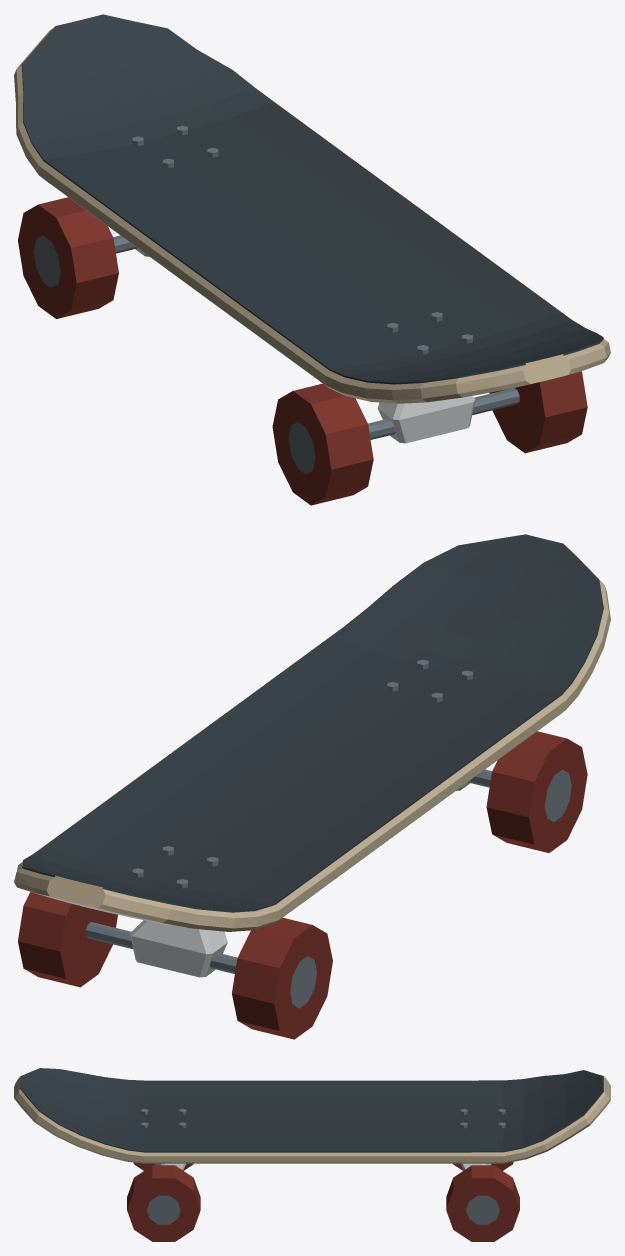
The model's file is skateboard-667a82.glb.
3 views of the same model, one above another, from view 1: azimuth 30°, elevation 25°; view 2: azimuth 150°, elevation 25°; view 3: azimuth 270°, elevation 25° (orthographic). The views are drawn at different scales.
Visible parts, largest first — view 1: deck, wheel-fr-mesh, wheel-rr-mesh, wheel-fl-mesh, front-truck-mesh; view 2: deck, wheel-rr-mesh, wheel-fr-mesh, wheel-rl-mesh, rear-truck-mesh; view 3: deck, wheel-rl-mesh, wheel-fl-mesh.
Part boxes in pixels (x1,y1,x2,y2): deck: (14,14,610,403); wheel-fr-mesh: (272,383,373,505); wheel-rr-mesh: (18,197,118,318); wheel-fl-mesh: (489,371,587,453); front-truck-mesh: (368,388,519,443); deck: (14,534,610,931); wheel-rr-mesh: (232,917,332,1039); wheel-fr-mesh: (486,731,587,852); wheel-rl-mesh: (18,892,117,987); rear-truck-mesh: (85,920,237,977); deck: (14,1068,610,1163); wheel-rl-mesh: (446,1165,519,1241); wheel-fl-mesh: (127,1165,200,1241).
Bounding box in the file's own units: 0.254 × 0.1825 × 0.8173.
